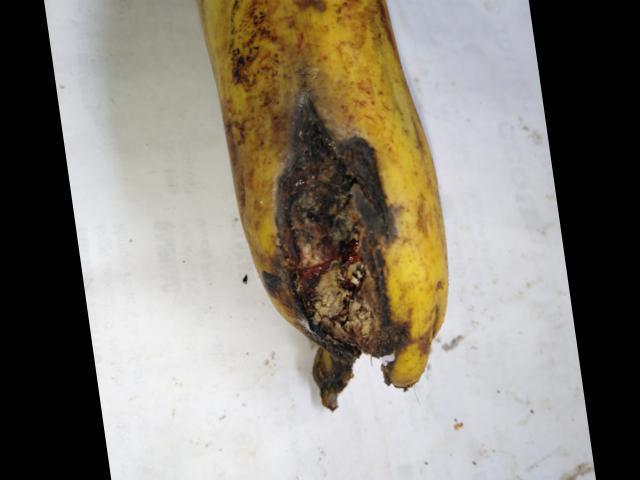ripe: (178, 0, 473, 375)
rotten: (231, 86, 441, 426)
